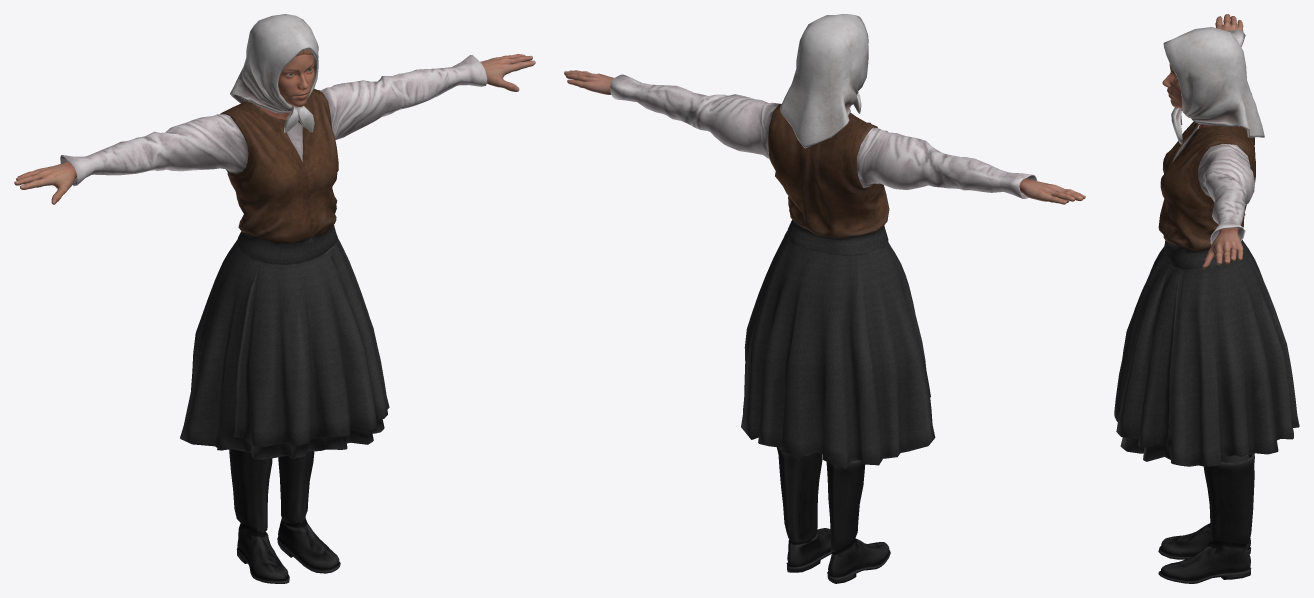
Rendered from WomanCharacterTest.glb.
The picture shows the model from 3 angles, left to right: view 1: azimuth 30°, elevation 25°; view 2: azimuth 150°, elevation 25°; view 3: azimuth 270°, elevation 25°; orthographic projection. The views are drawn at different scales.
Visible parts, largest first — view 1: Female_01; view 2: Female_01; view 3: Female_01.
Boxes of the visible parts, x1,y1,x2,y2 form: Female_01: (14,14,535,583); Female_01: (564,14,1085,583); Female_01: (1114,14,1299,583).
Bounding box in the file's own units: 17.47 × 17.56 × 5.52.
Materials: 1 (1 with a texture image).
